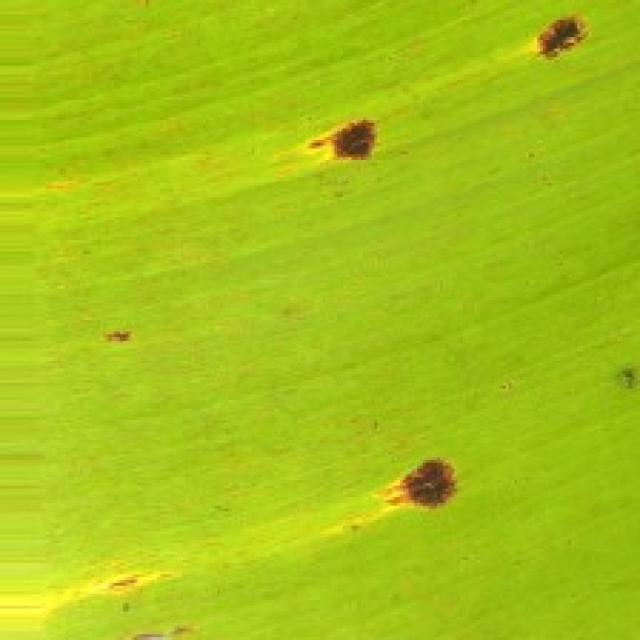Bacterial_spot: (262, 81, 398, 189), (96, 538, 202, 640), (370, 433, 477, 532), (518, 2, 611, 88), (89, 305, 161, 378), (29, 164, 96, 214), (610, 354, 640, 409)
